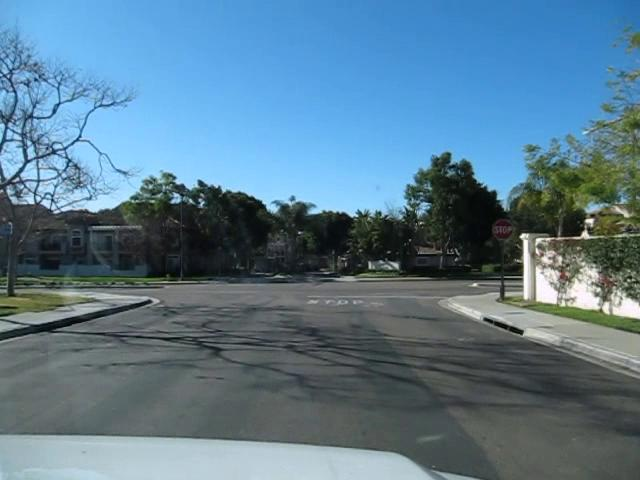stop: (491, 217, 514, 241)
